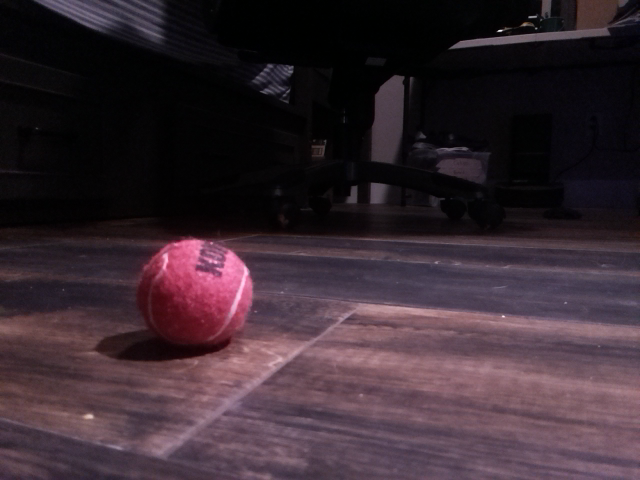red-ball: (135, 236, 254, 352)
